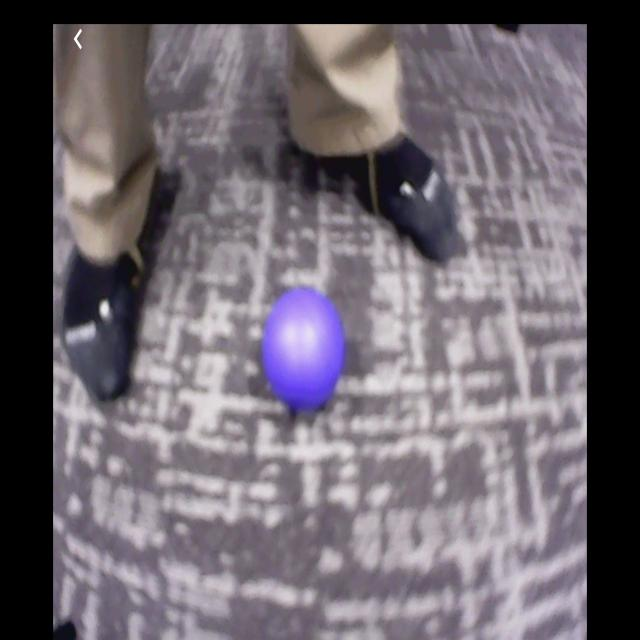ball: (267, 289, 346, 408)
